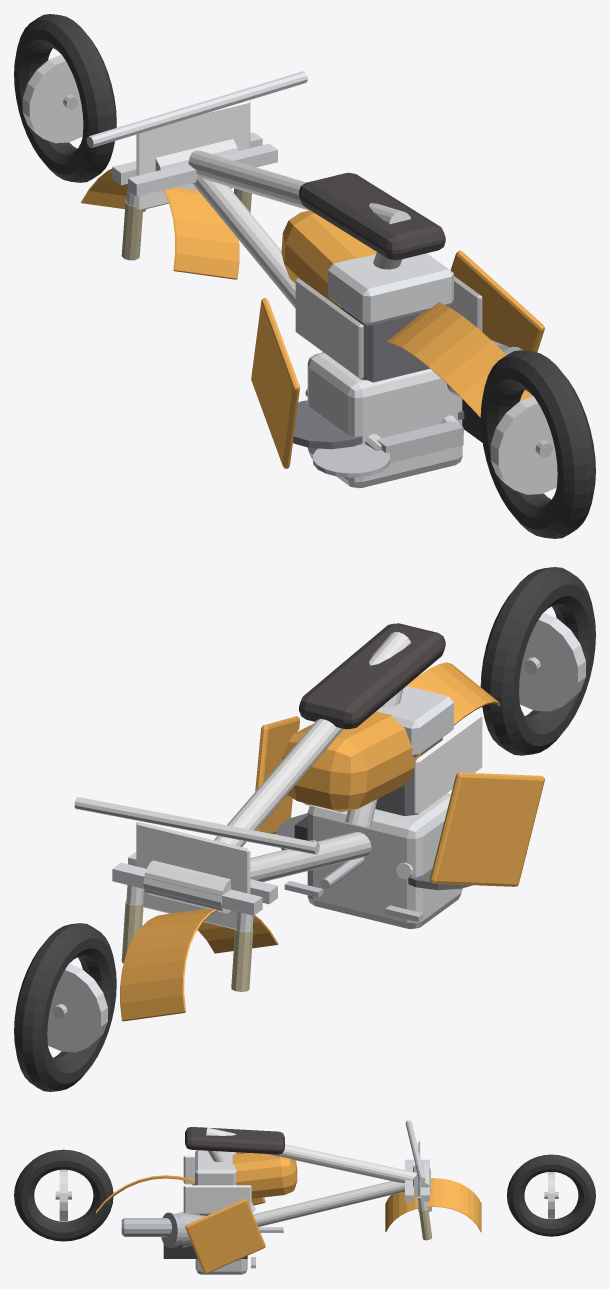
3 renders of one model, top to bottom at view 1: azimuth 30°, elevation 25°; view 2: azimuth 150°, elevation 25°; view 3: azimuth 270°, elevation 25°, orthographic. The views are drawn at different scales.
Visible parts, largest first — view 1: b_rear_wheel_tire, b_engine_case, b_front_wheel_tire, b_seat, b_engine_head, b_rear_fender, b_front_fender, b_rear_wheel_rim, b_front_plate, b_shroud_-1, b_tank, b_sideplate_-1 (+13 smaller); view 2: b_rear_wheel_tire, b_engine_case, b_shroud_-1, b_front_wheel_tire, b_tank, b_front_fender, b_seat, b_front_plate, b_rear_wheel_rim, b_frame_spine, b_front_wheel_rim, b_sideplate_-1 (+11 smaller); view 3: b_rear_wheel_tire, b_front_wheel_tire, b_shroud_1, b_tank, b_front_fender, b_seat, b_frame_down, b_frame_spine, b_sideplate_1, b_engine_head, b_silencer, b_pipe_c1 (+11 smaller).
Part boxes in pixels (x1=…): b_rear_wheel_tire: x1=480, y1=350, x2=595, y2=538; b_engine_case: x1=307, y1=352, x2=462, y2=488; b_front_wheel_tire: x1=14, y1=14, x2=116, y2=182; b_seat: x1=299, y1=172, x2=445, y2=260; b_engine_head: x1=328, y1=253, x2=453, y2=325; b_rear_fender: x1=388, y1=302, x2=532, y2=417; b_front_fender: x1=81, y1=168, x2=239, y2=279; b_rear_wheel_rim: x1=490, y1=396, x2=557, y2=494; b_front_plate: x1=136, y1=100, x2=250, y2=210; b_shroud_-1: x1=251, y1=298, x2=299, y2=468; b_tank: x1=281, y1=210, x2=376, y2=308; b_sideplate_-1: x1=295, y1=277, x2=363, y2=379; b_rear_wheel_tire: x1=480, y1=567, x2=595, y2=755; b_engine_case: x1=307, y1=793, x2=462, y2=928; b_shroud_-1: x1=430, y1=772, x2=544, y2=886; b_front_wheel_tire: x1=14, y1=923, x2=116, y2=1091; b_tank: x1=282, y1=711, x2=421, y2=811; b_front_fender: x1=120, y1=908, x2=278, y2=1021; b_seat: x1=299, y1=623, x2=445, y2=729; b_front_plate: x1=136, y1=822, x2=250, y2=929; b_rear_wheel_rim: x1=519, y1=612, x2=585, y2=711; b_frame_spine: x1=214, y1=632, x2=410, y2=846; b_front_wheel_rim: x1=47, y1=963, x2=107, y2=1052; b_sideplate_-1: x1=414, y1=713, x2=482, y2=814; b_rear_wheel_tire: x1=14, y1=1149, x2=113, y2=1241; b_front_wheel_tire: x1=507, y1=1154, x2=595, y2=1236; b_shroud_1: x1=185, y1=1199, x2=265, y2=1274; b_tank: x1=232, y1=1153, x2=297, y2=1198; b_front_fender: x1=385, y1=1178, x2=481, y2=1232; b_seat: x1=185, y1=1127, x2=284, y2=1154; b_frame_down: x1=253, y1=1181, x2=404, y2=1226; b_frame_spine: x1=206, y1=1127, x2=416, y2=1182; b_sideplate_1: x1=183, y1=1185, x2=251, y2=1214; b_engine_head: x1=195, y1=1150, x2=236, y2=1185; b_silencer: x1=121, y1=1218, x2=171, y2=1236; b_pipe_c1: x1=161, y1=1212, x2=182, y2=1248.
Bounding box in the file's own units: 0.7485 × 0.7431 × 2.91.
